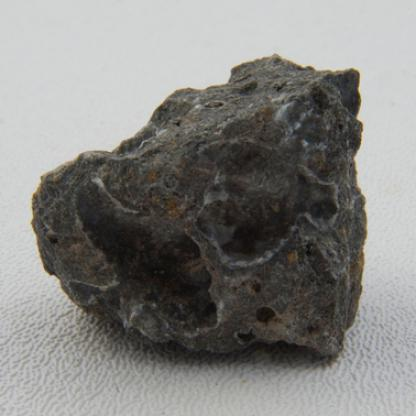Igneous_Basalt: (35, 45, 385, 372)
